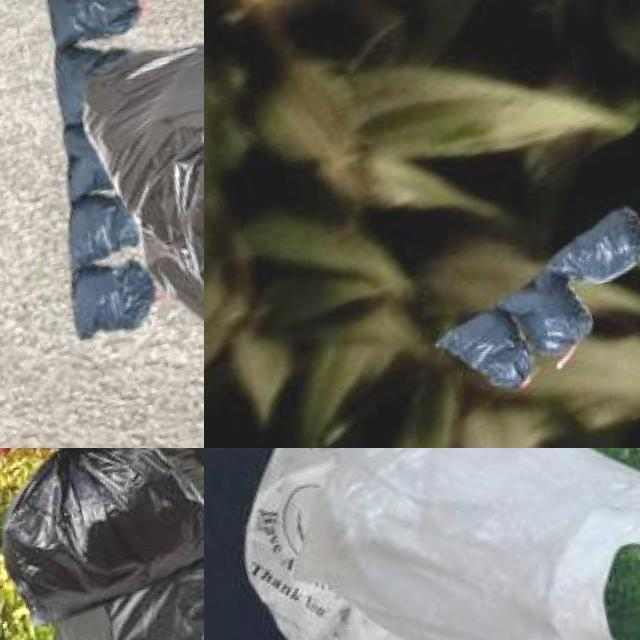waste: (300, 448, 640, 640), (76, 0, 204, 385), (220, 448, 452, 640), (9, 448, 204, 640), (0, 448, 204, 623), (49, 186, 168, 352), (500, 268, 598, 373), (441, 302, 538, 400), (61, 252, 164, 341), (531, 211, 640, 290), (38, 0, 146, 56)
